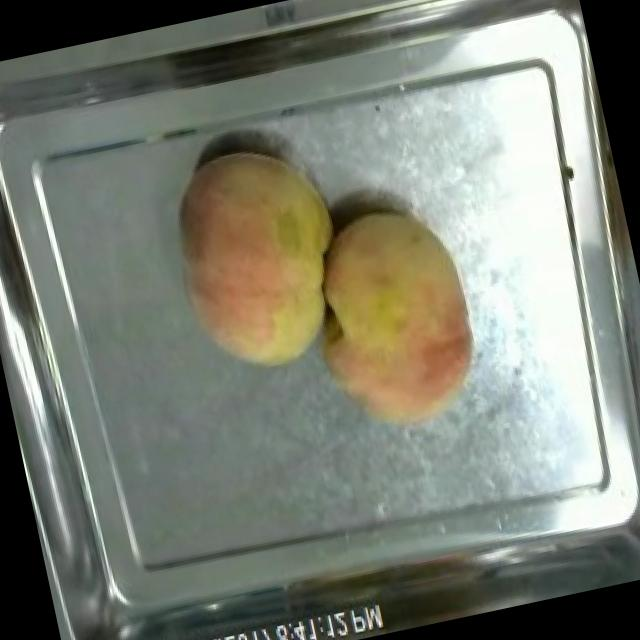Fruit: (152, 127, 368, 391), (294, 190, 502, 450)
